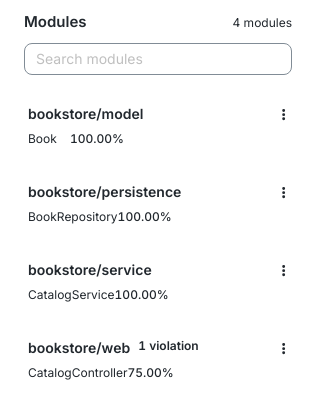
Test: ModulesPanel › narrows the list as a name is typed
Type "pers" into the search field labelled "Search modules" at (150, 59), box x1=36 y1=48 x2=264 y2=70
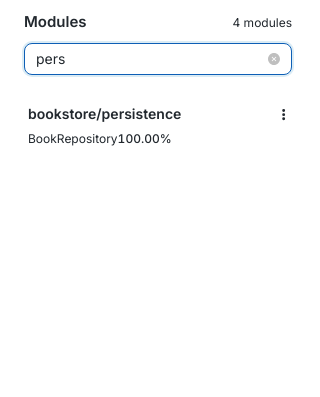
Result: the number of buttons "bookstore/persistence BookRepository 100.00%" is 1 at x1=16 y1=93 x2=264 y2=169
